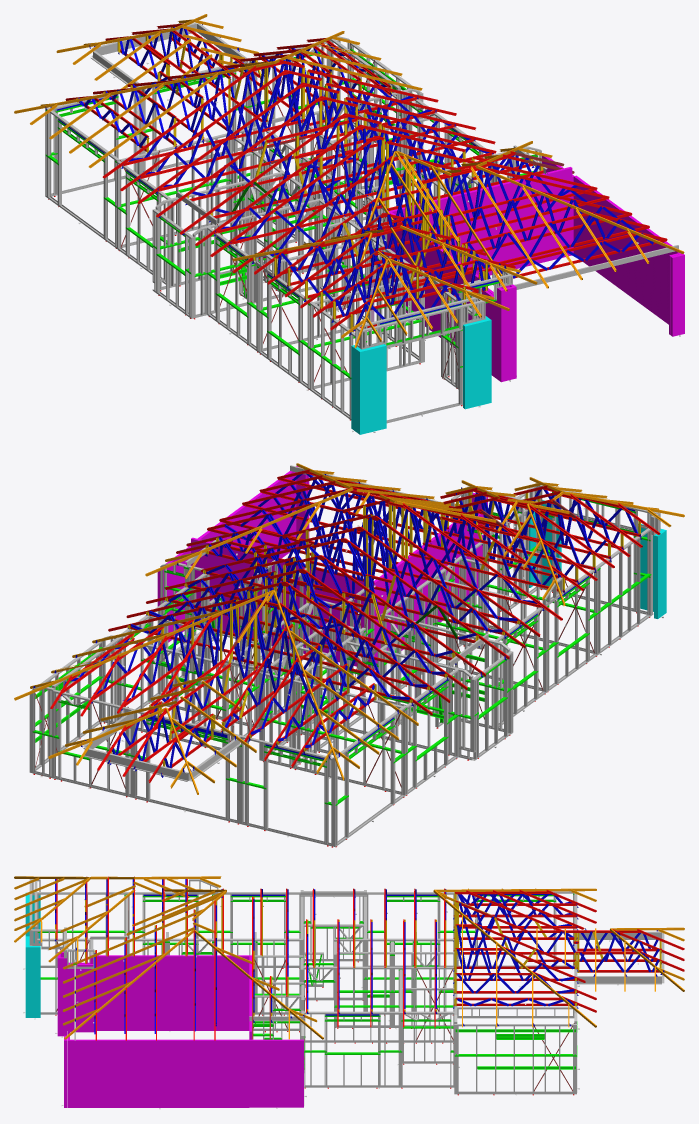
File: main.glb
3 renders of one model, top to bottom at view 1: azimuth 30°, elevation 25°; view 2: azimuth 150°, elevation 25°; view 3: azimuth 270°, elevation 25°, orthographic. The views are drawn at different scales.
Parts seen in each view (by area): view 1: Object_9325, Object_9372, Object_9391, Object_9403, Object_9330, Object_9337, Object_9385, Object_4629, Object_2228; view 2: Object_9324, Object_9330, Object_9372, Object_1868, Object_6910, Object_9366, Object_9390, Object_2118, Object_9397; view 3: Object_9373, Object_9331, Object_9367, Object_9360, Object_9409, Object_6905, Object_1873, Object_6915, Object_2233, Object_1903.
Part boxes in pixels (bbox=[...]): Object_9325: bbox=[392, 168, 572, 275]; Object_9372: bbox=[573, 176, 677, 324]; Object_9391: bbox=[360, 345, 386, 434]; Object_9403: bbox=[465, 320, 491, 409]; Object_9330: bbox=[389, 213, 479, 348]; Object_9337: bbox=[501, 287, 516, 381]; Object_9385: bbox=[672, 255, 684, 336]; Object_4629: bbox=[515, 245, 678, 289]; Object_2228: bbox=[14, 62, 274, 113]; Object_9324: bbox=[191, 539, 370, 667]; Object_9330: bbox=[376, 523, 468, 663]; Object_9372: bbox=[200, 471, 296, 558]; Object_1868: bbox=[14, 591, 272, 700]; Object_6910: bbox=[84, 749, 188, 780]; Object_9366: bbox=[163, 551, 190, 642]; Object_9390: bbox=[638, 527, 653, 611]; Object_2118: bbox=[145, 488, 353, 576]; Object_9397: bbox=[658, 532, 664, 618]; Object_9373: bbox=[70, 1040, 249, 1107]; Object_9331: bbox=[90, 956, 249, 1030]; Object_9367: bbox=[249, 1040, 303, 1107]; Object_9360: bbox=[70, 965, 94, 1032]; Object_9409: bbox=[29, 947, 40, 1017]; Object_6905: bbox=[577, 977, 661, 983]; Object_1873: bbox=[433, 890, 595, 1027]; Object_6915: bbox=[579, 932, 661, 939]; Object_2233: bbox=[436, 889, 596, 891]; Object_1903: bbox=[63, 927, 195, 983].
Size of the model in its own units: 11.4 by 4.87 by 21.38.
